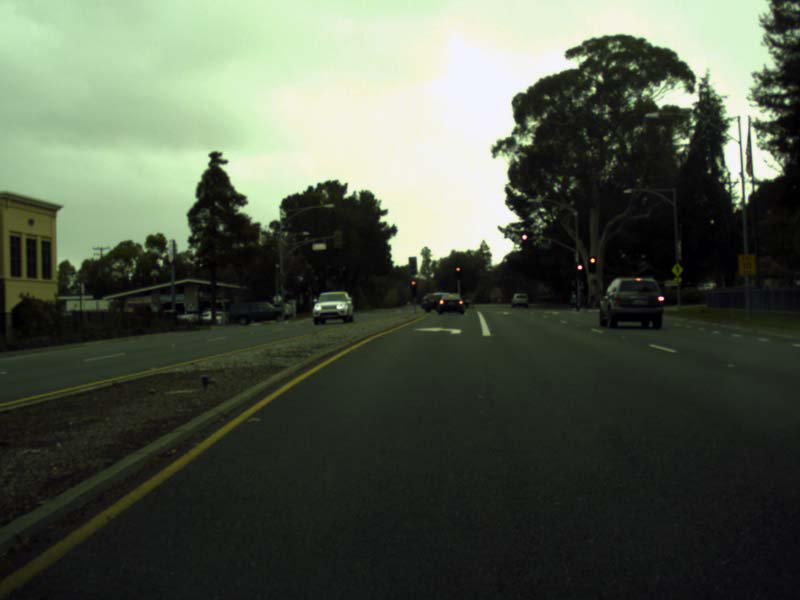Red: (587, 256, 595, 272), (521, 233, 528, 248), (410, 280, 416, 295), (576, 264, 582, 277), (455, 266, 460, 278)
